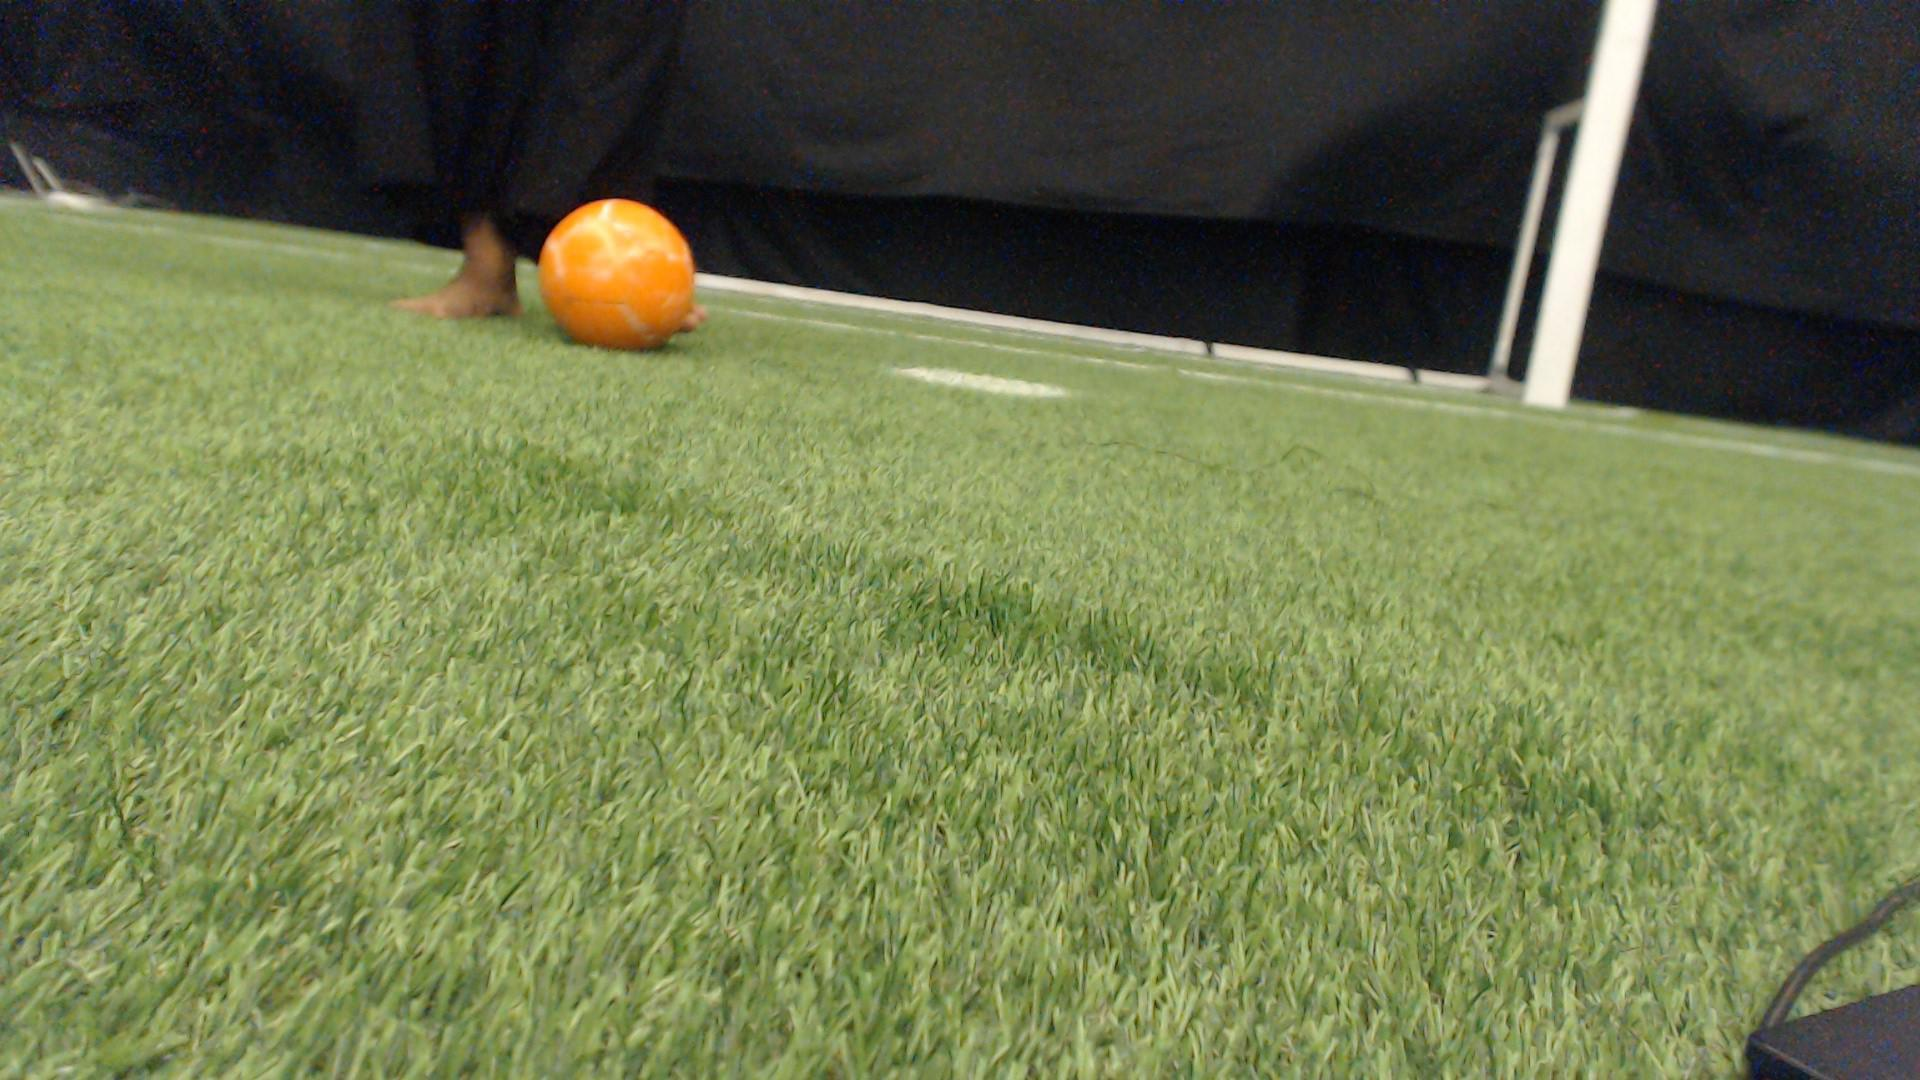bola: (527, 182, 713, 373)
